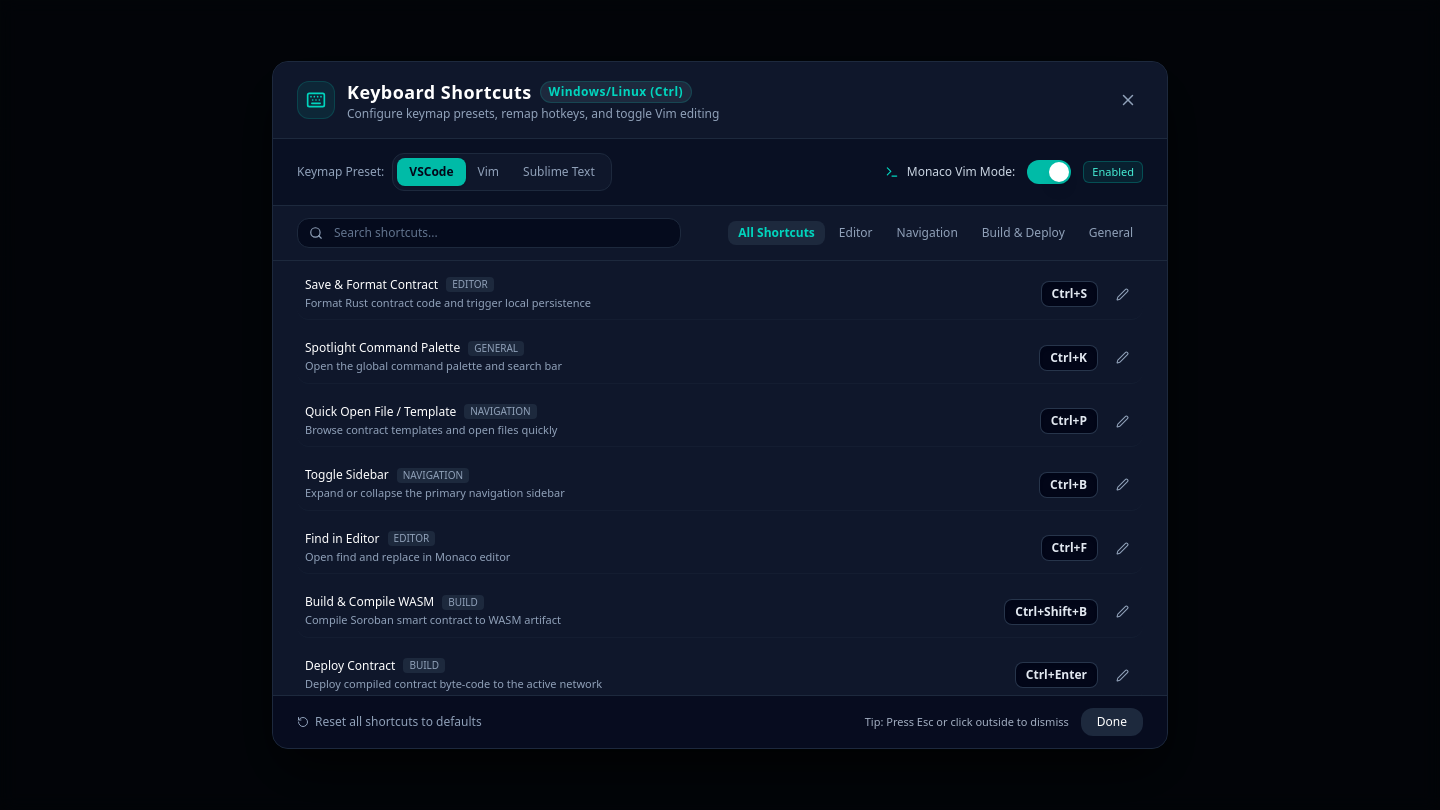
Scenario: KeyboardShortcutsModal (#2077) › cancels recording when Escape is pressed
The width and height of the screenshot is (1440, 810).
Step 1. Click the button named "Remap Save & Format Contract" → (1122, 294), box x1=1110 y1=282 x2=1135 y2=306
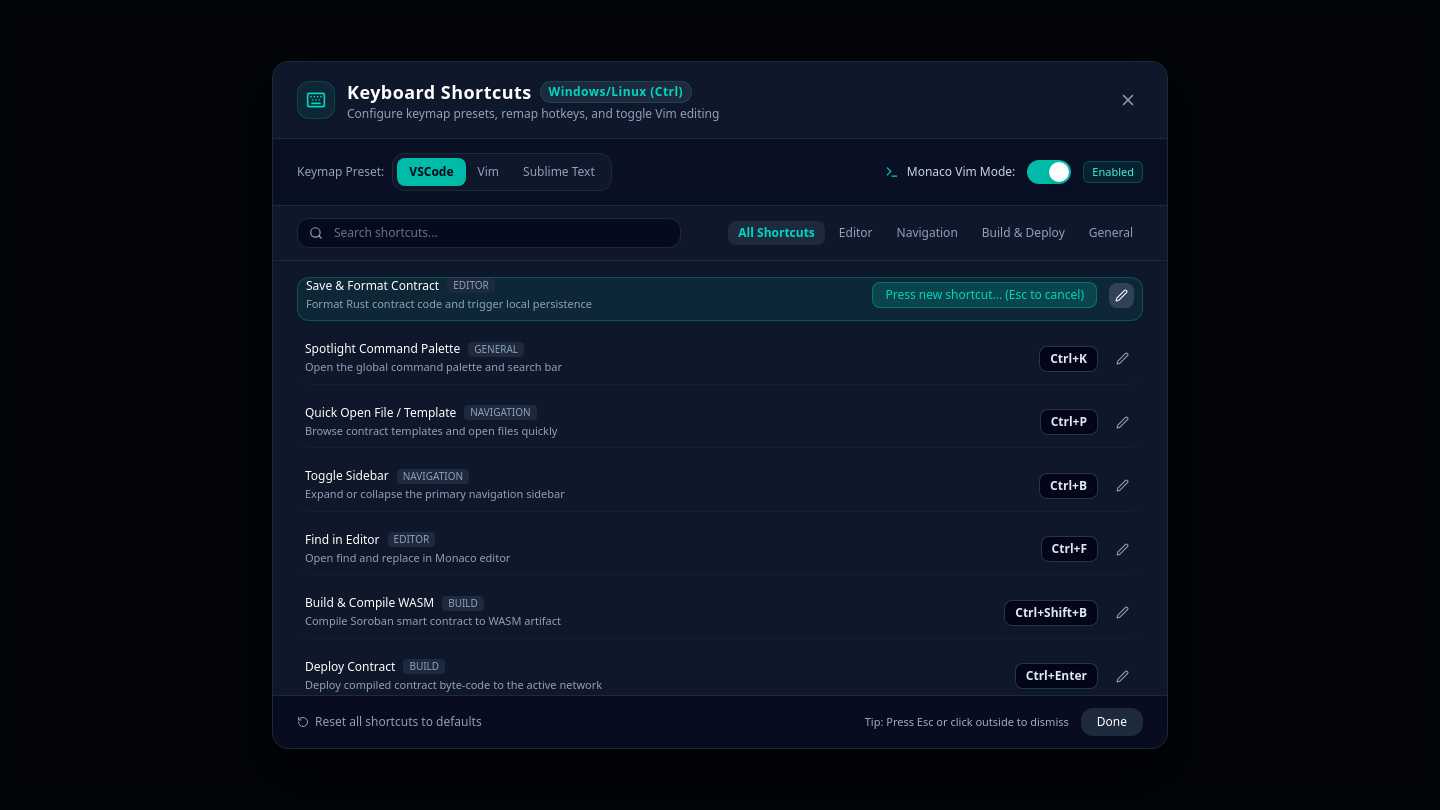
Now the text "Press new shortcut... (Esc to cancel)" is shown, box x1=872 y1=282 x2=1097 y2=308
Escape cancels recording
Step 2. Press Escape
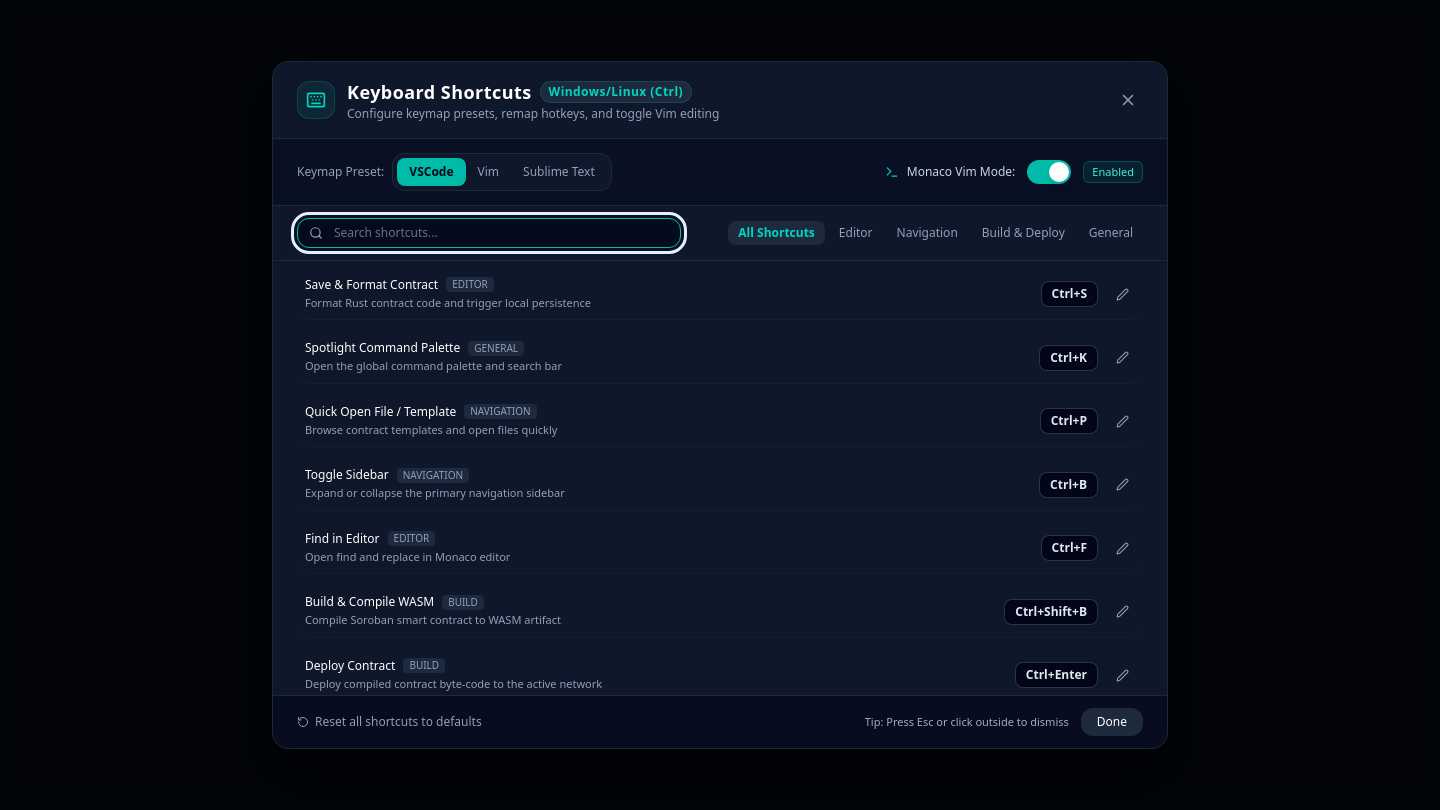
Now the text "Press new shortcut... (Esc to cancel)" is gone
